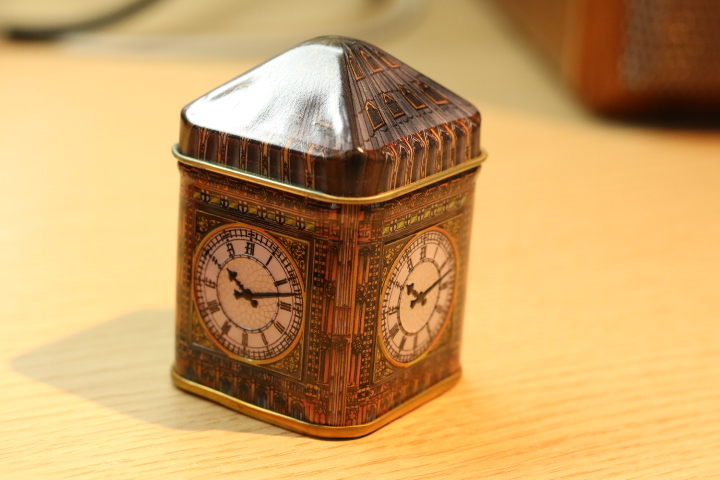Big Ben: (150, 22, 504, 462)
